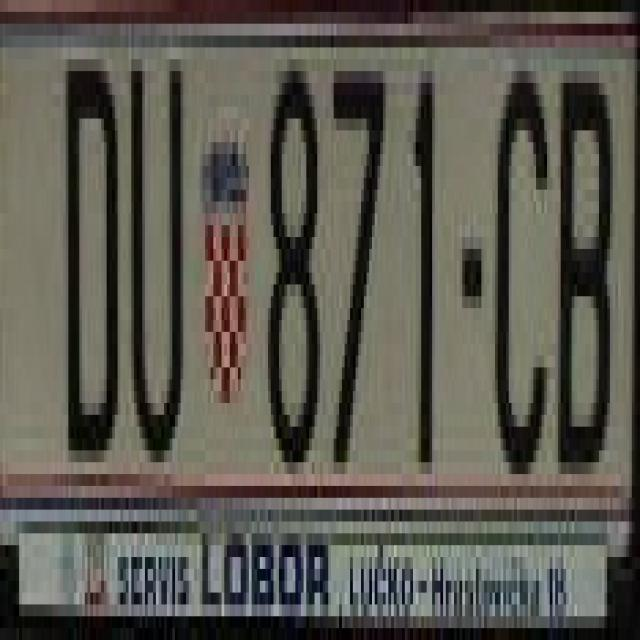1: (408, 95, 452, 486)
7: (325, 71, 383, 462)
8: (265, 71, 323, 462)
B: (558, 59, 626, 474)
C: (492, 59, 550, 474)
D: (66, 59, 126, 474)
U: (123, 59, 189, 474)
